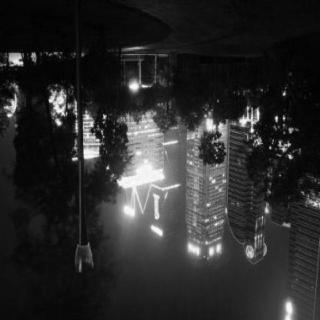other: (182, 230, 232, 272), (280, 284, 298, 318)
